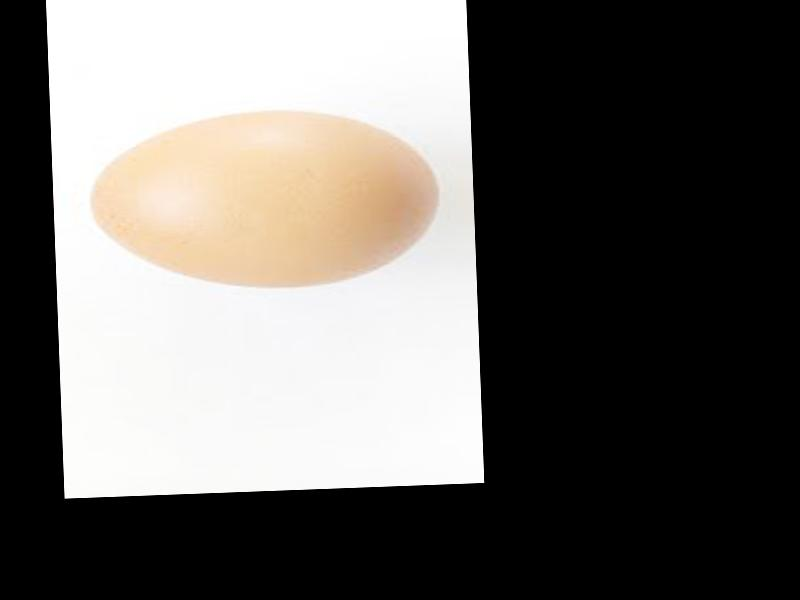Eggs: (87, 106, 440, 295)
